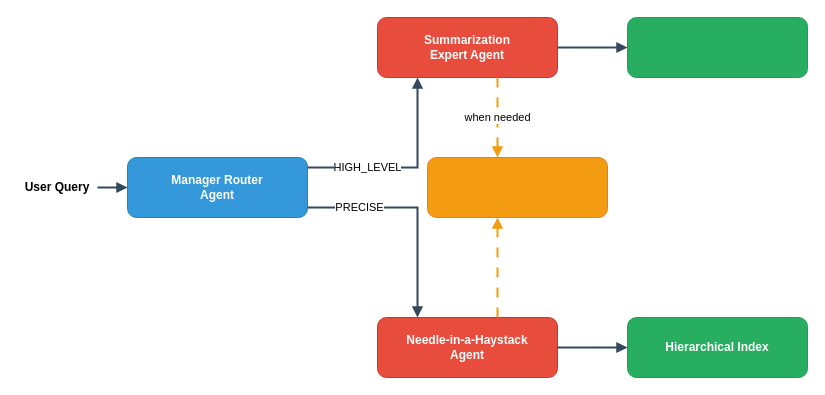
Some shapes in this 825 by 395 pixel diagram are drawn without their labels. The shapes that lost their labels are listed below. From the top down, each one's box as (x1, y1, x2, y2) in pixels, then its label:
(626, 16, 808, 78): Summary Index
(426, 156, 608, 218): DateParserTool (MCP)
